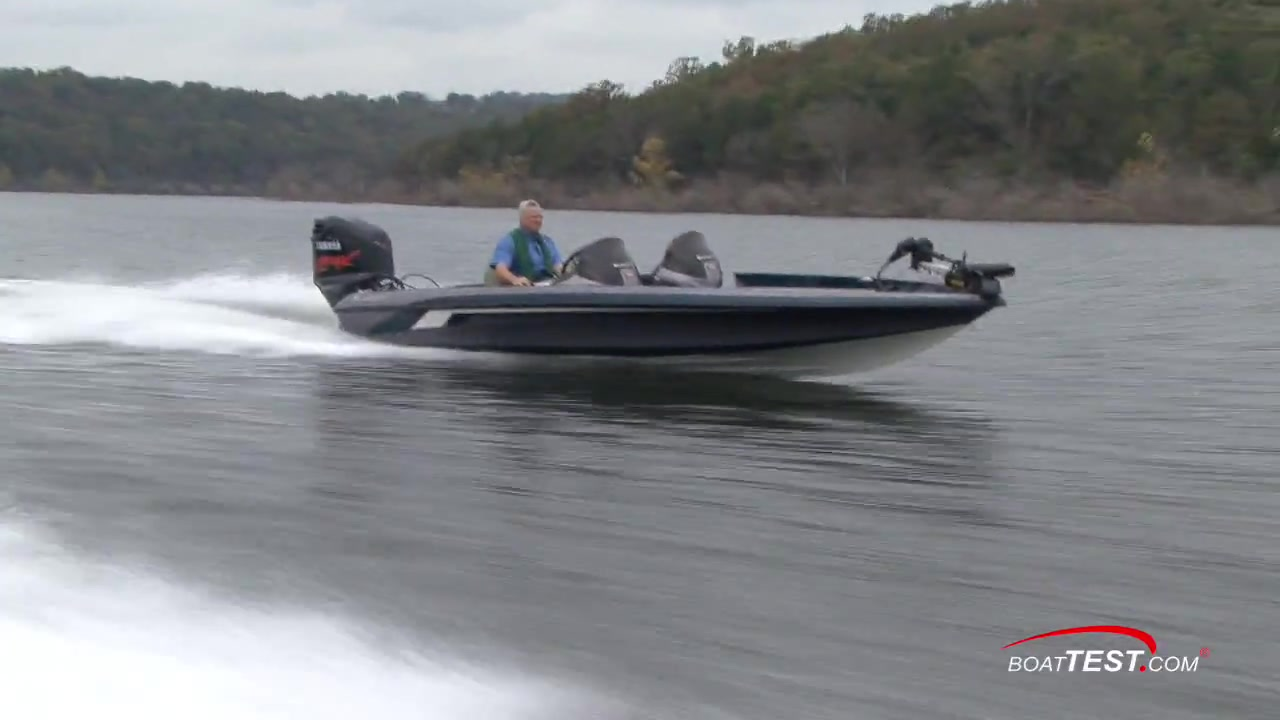boat: (304, 211, 1014, 371)
